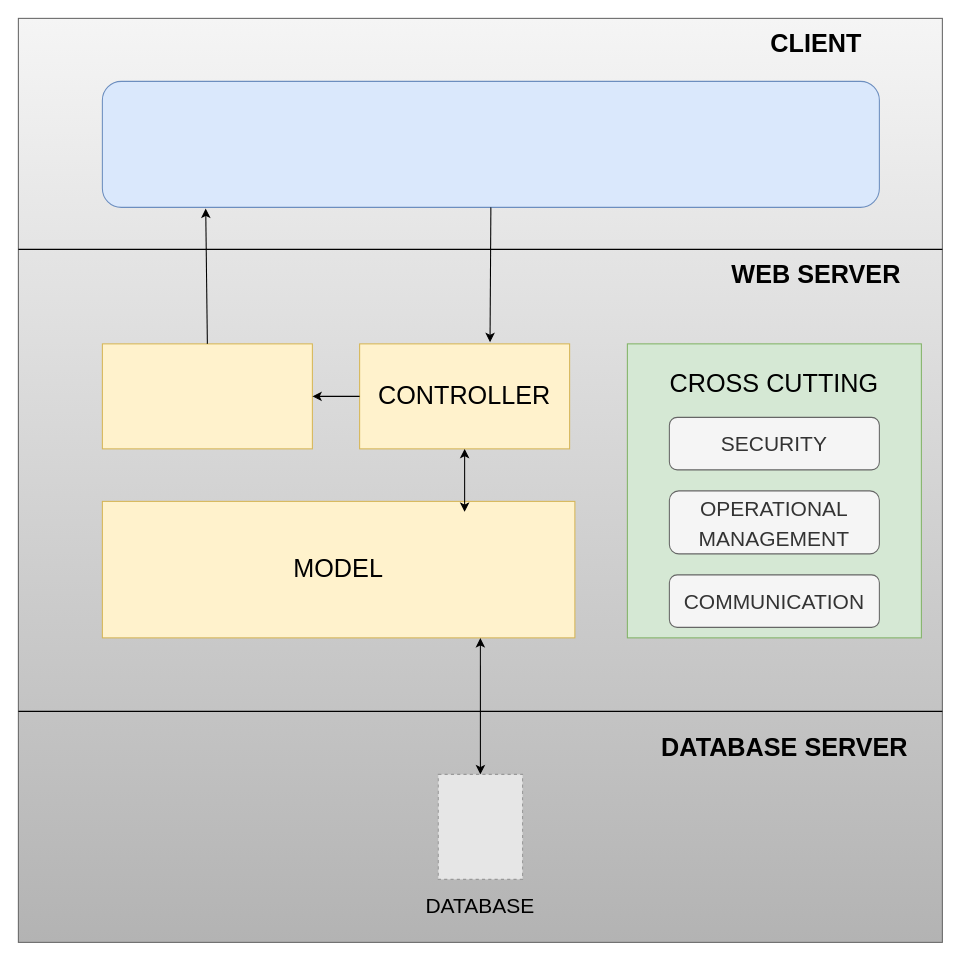
Image size: 962x961. Some labels were removed from this diagram. Grey dashed boxes stand in for pictures. Each missing label, with the centre of its shape:
"Browser" belongs at pixel 490 143.
"VIEW" belongs at pixel 206 396.
